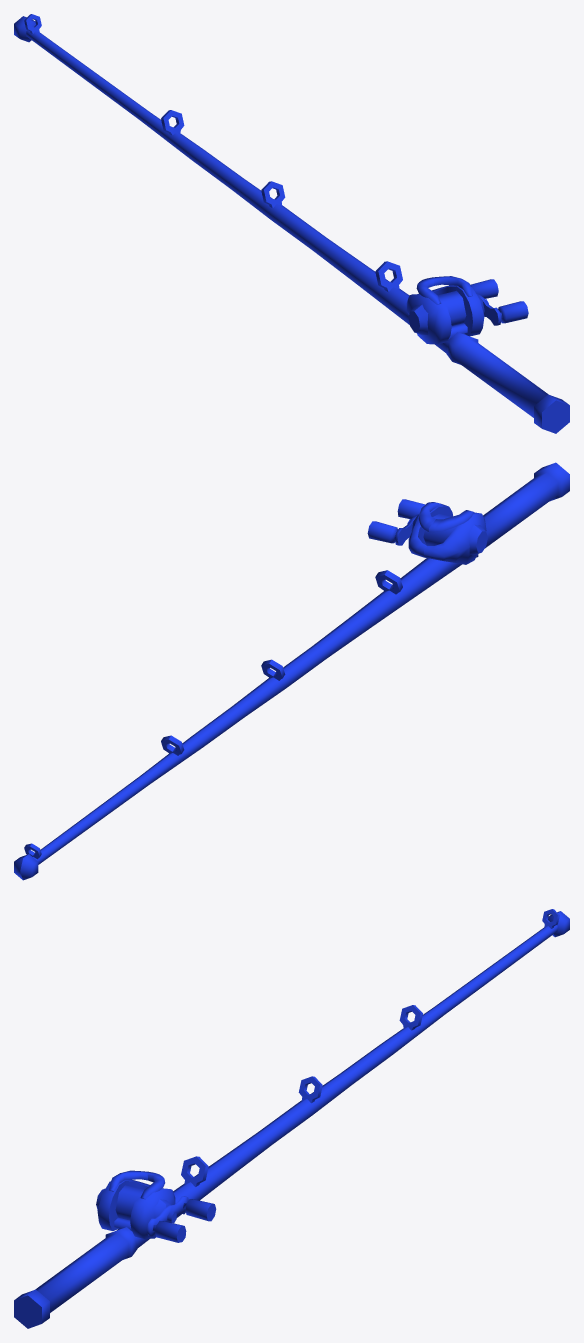
The model's file is G_Fishingrod_002_S1.FBX.
3 views of the same model, one above another, from view 1: azimuth 30°, elevation 25°; view 2: azimuth 150°, elevation 25°; view 3: azimuth 330°, elevation 25° (orthographic).
Visible parts, largest first — view 1: S_M_Ornament_Fishingrod002_3x1x1_LOD0; view 2: S_M_Ornament_Fishingrod002_3x1x1_LOD0; view 3: S_M_Ornament_Fishingrod002_3x1x1_LOD0.
Boxes of the visible parts, x1,y1,x2,y2 form: S_M_Ornament_Fishingrod002_3x1x1_LOD0: (14, 14, 569, 433); S_M_Ornament_Fishingrod002_3x1x1_LOD0: (14, 462, 569, 880); S_M_Ornament_Fishingrod002_3x1x1_LOD0: (14, 909, 569, 1328).
Size of the model in its own units: 28.6 by 19.75 by 280.
